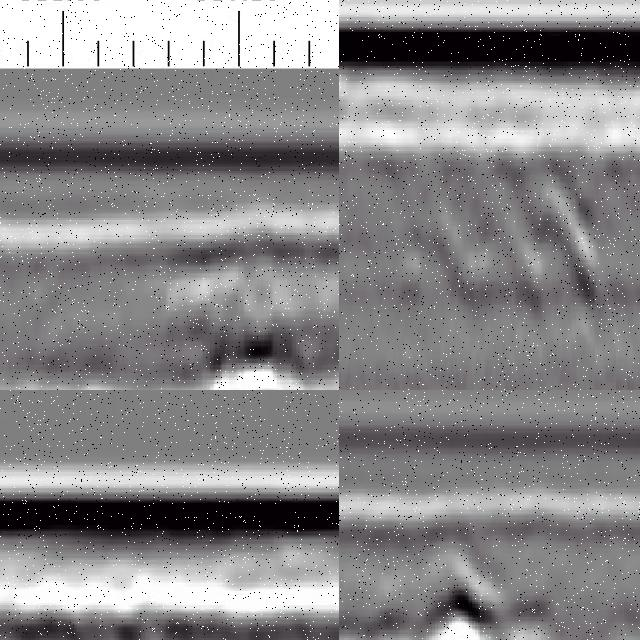loose: (382, 97, 604, 302), (350, 560, 597, 640), (340, 107, 431, 310), (183, 331, 340, 391)
